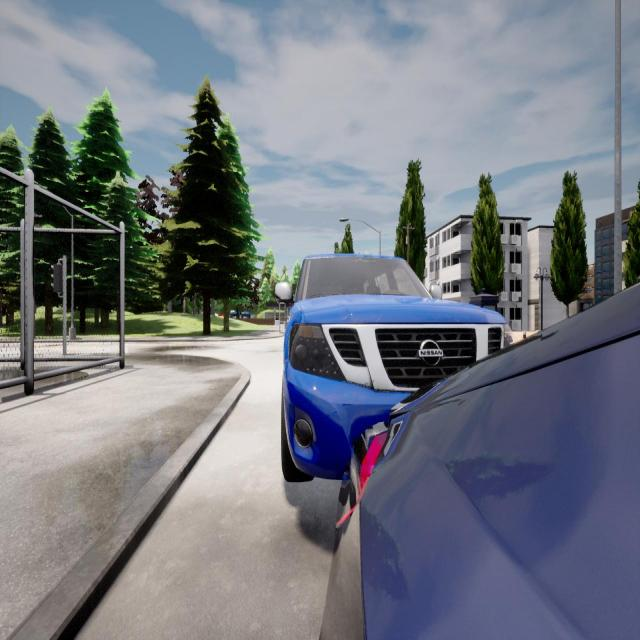Vehicle: (321, 286, 640, 640), (282, 255, 512, 483)
traffic_light: (50, 263, 63, 293)
